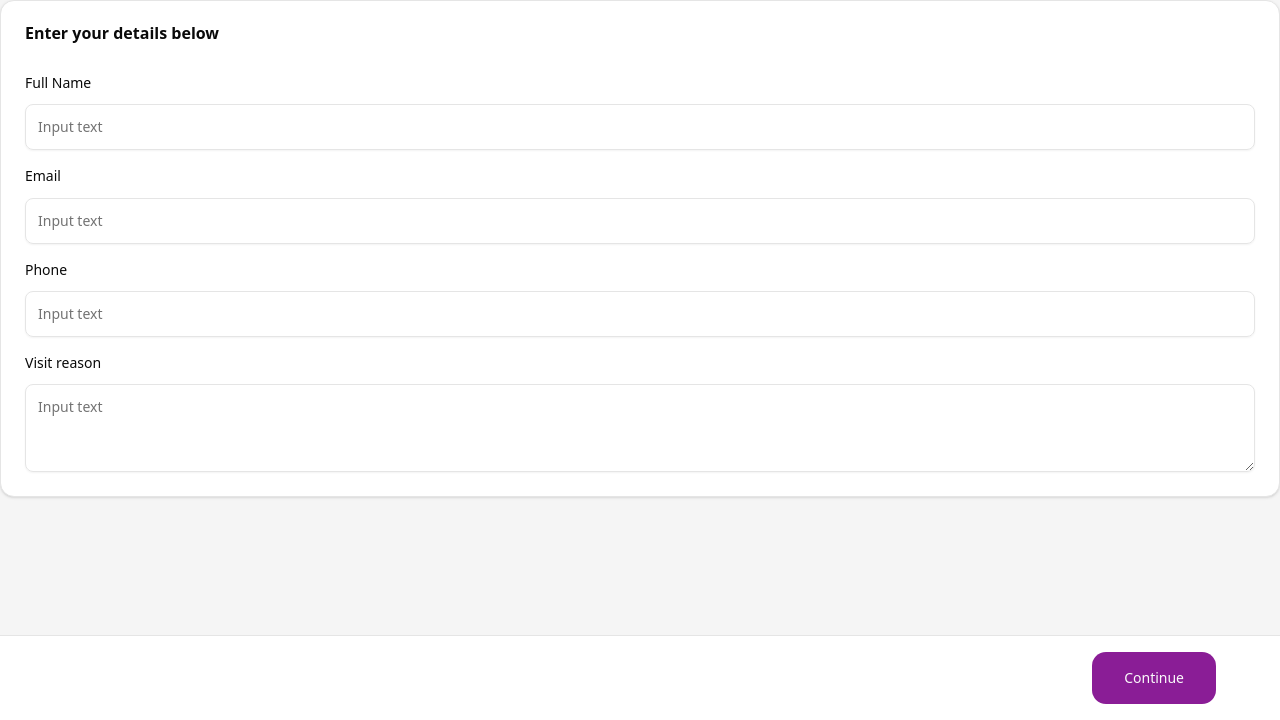
Test: UserDetailsForm › shows phone format error for too-short phone
Type "12345" into the field labelled "Phone".
click(640, 314); type("12345")  # box [25,291,1255,337]
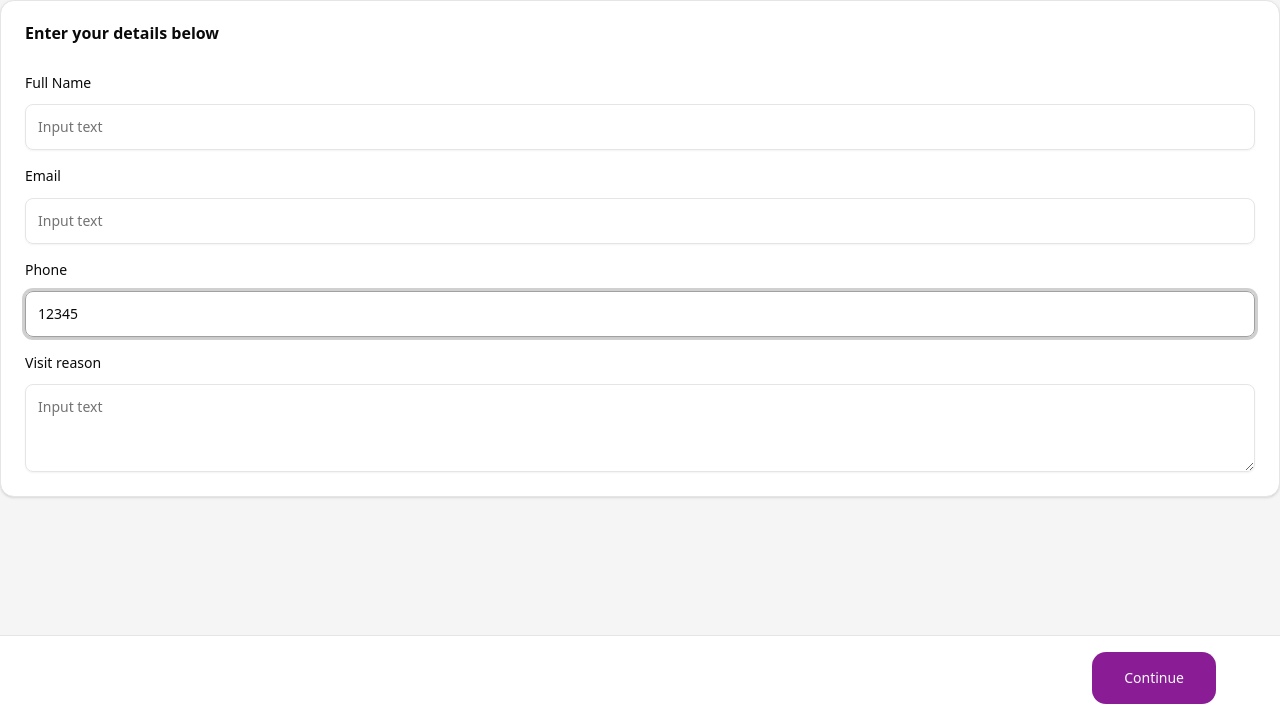
Click the button "Continue".
click(1154, 678)  # box [1092,652,1216,704]
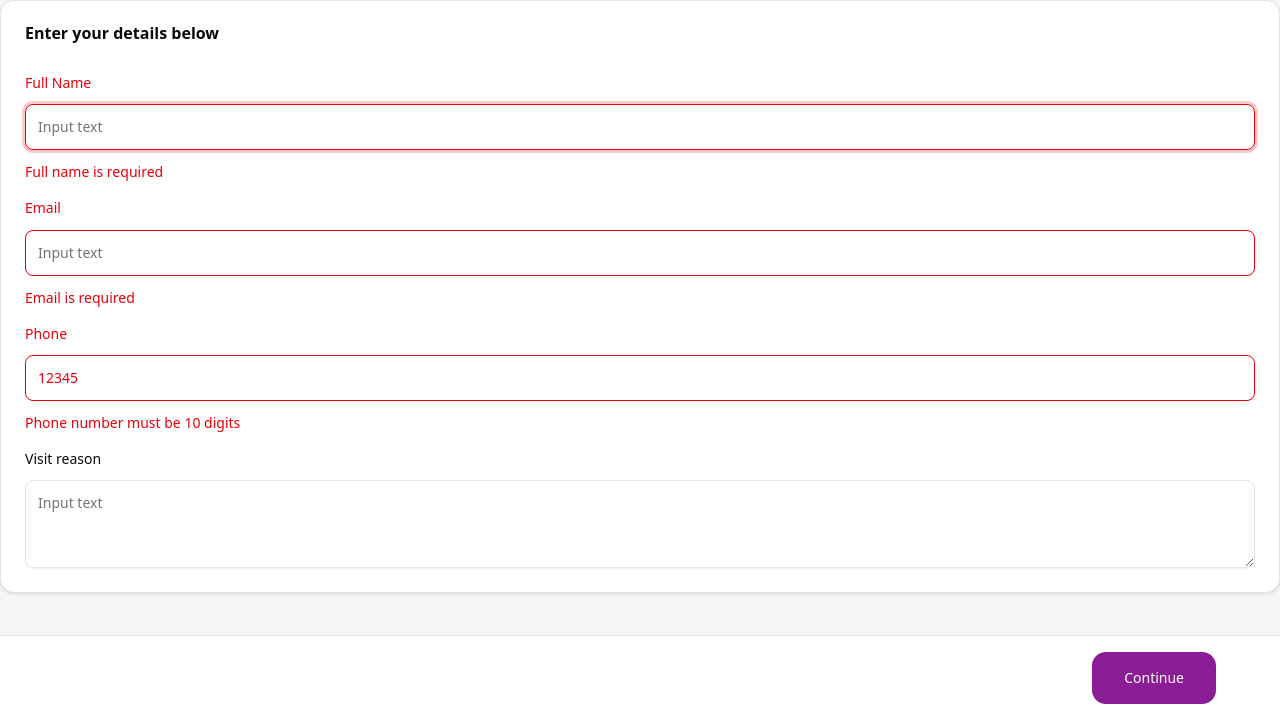
Now the text "Phone number must be 10 digits" is shown, box [25,413,240,432]
